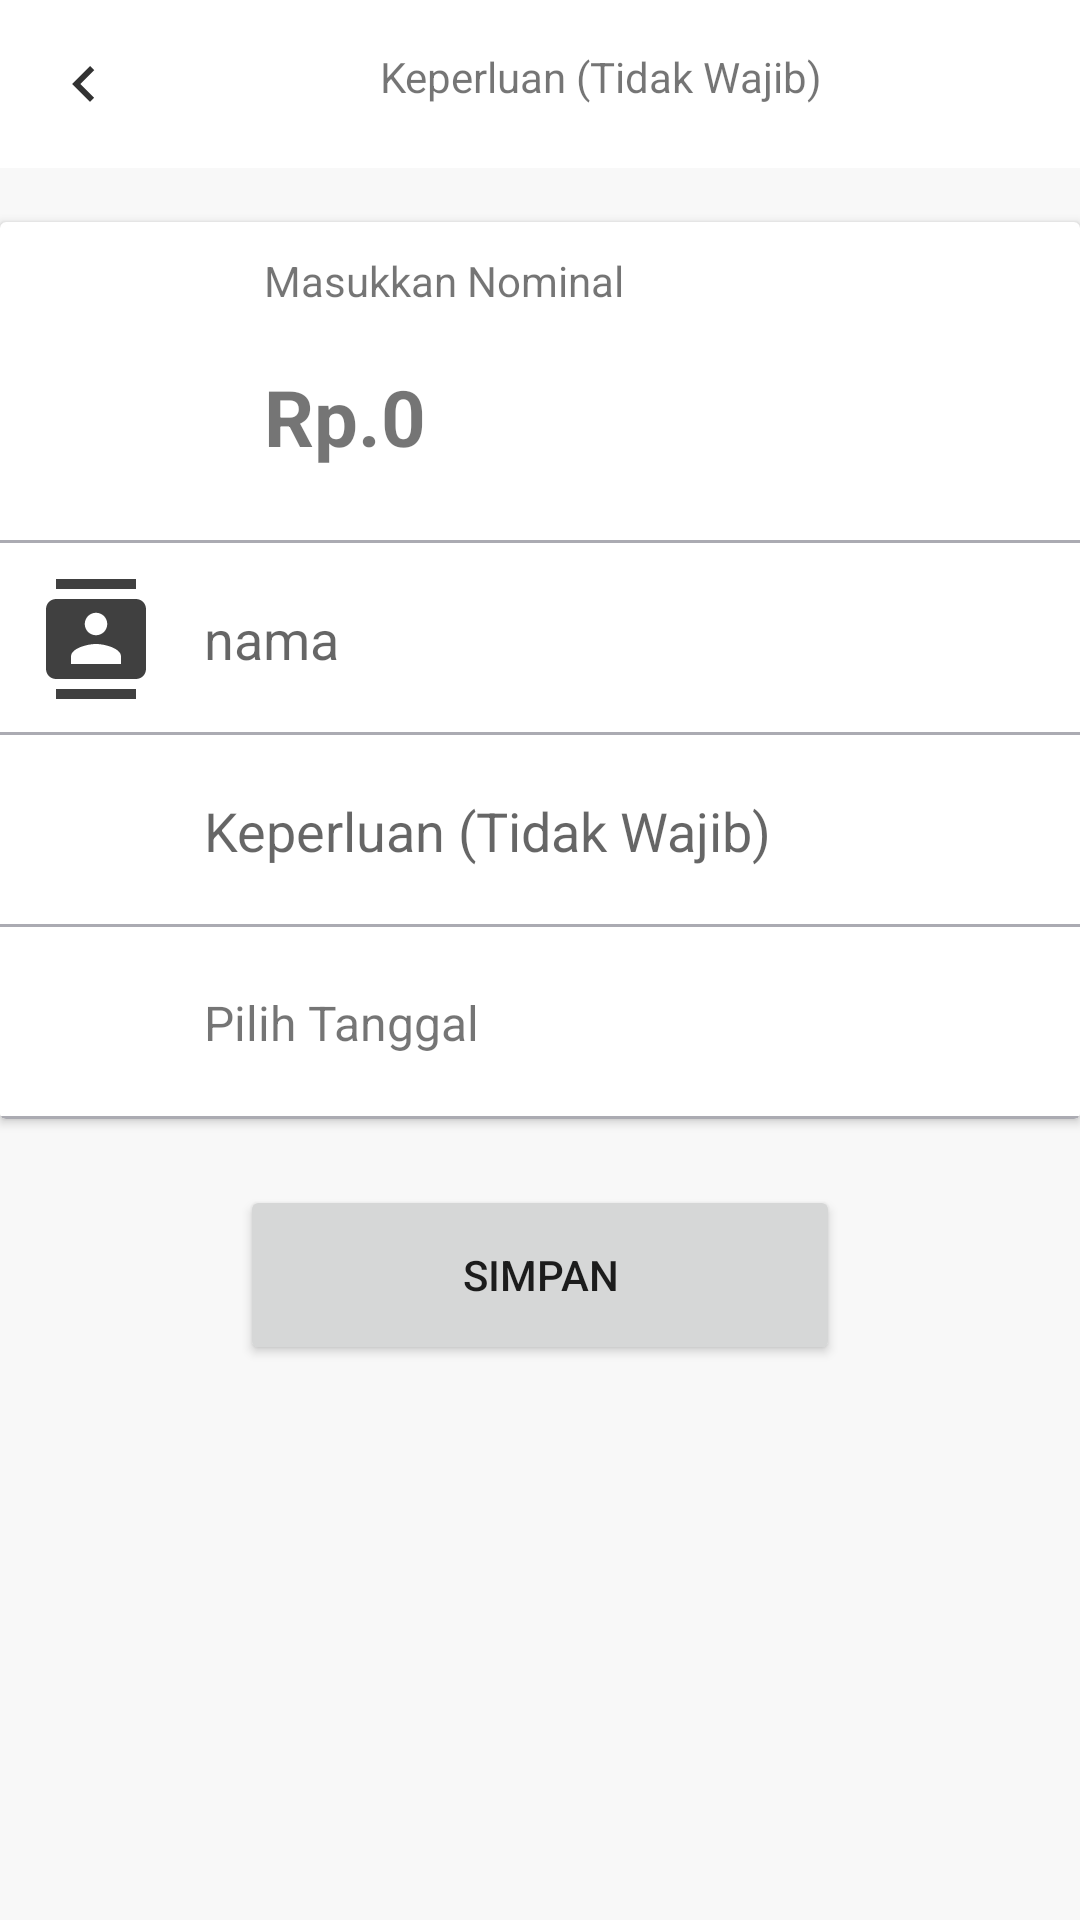

Icons on this 1080px×1920px Android screen, each with the point to tap as (x=x, y=y):
back arrow: (x=83, y=84)
contact: (x=96, y=639)
